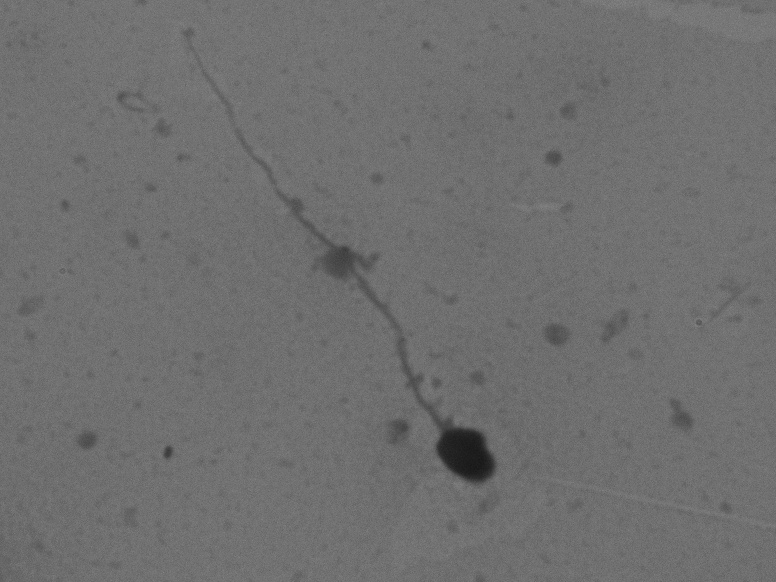Abnormal: (119, 21, 537, 502)
